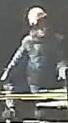helmet: (26, 6, 48, 26)
vest: (23, 30, 58, 86)
